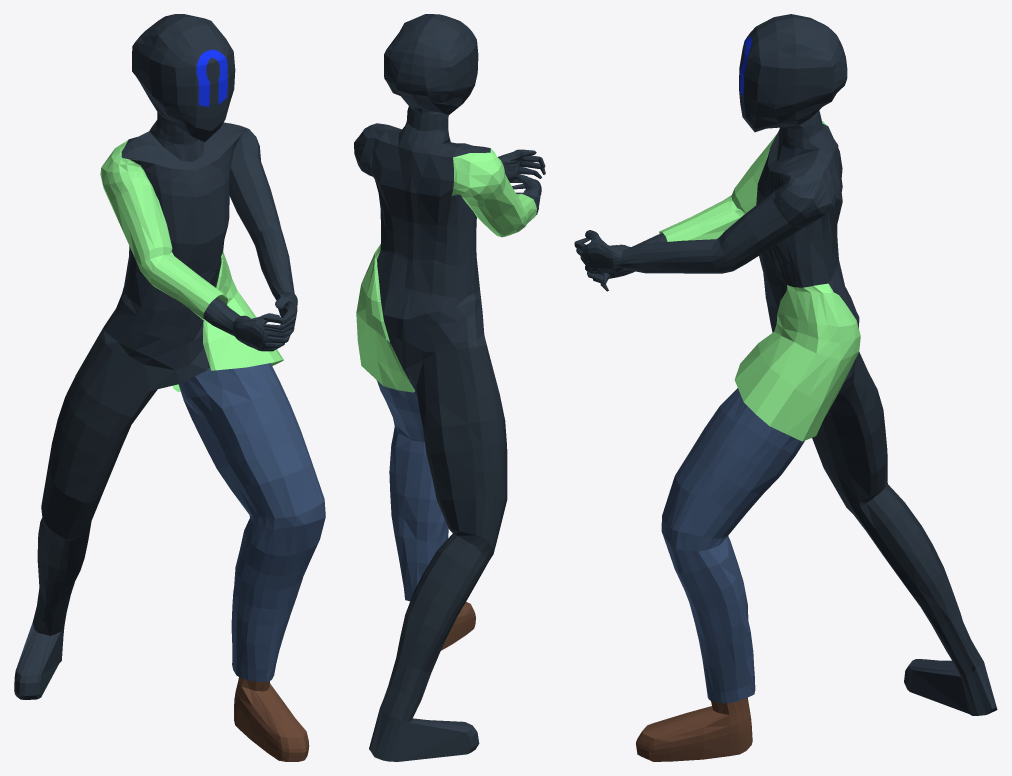
Rendered from Mar_WF_000030.obj.
3 views of the same model, side by side, from view 1: azimuth 30°, elevation 25°; view 2: azimuth 150°, elevation 25°; view 3: azimuth 270°, elevation 25° (orthographic). The views are drawn at different scales.
Visible parts, largest first — view 1: Cube.000_Cube.001; view 2: Cube.000_Cube.001; view 3: Cube.000_Cube.001.
Boxes of the visible parts, x1,y1,x2,y2 form: Cube.000_Cube.001: (14,14,325,761); Cube.000_Cube.001: (354,14,545,761); Cube.000_Cube.001: (574,14,997,761).
Bounding box in the file's own units: 1.08 × 3.72 × 1.99.
